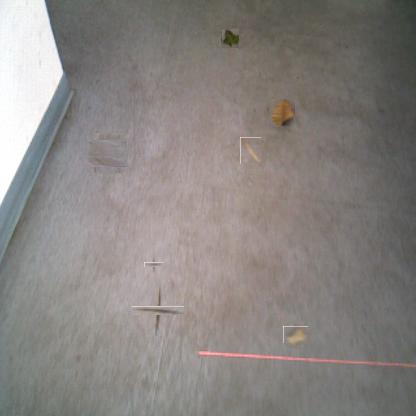dirty: (267, 100, 295, 126), (239, 138, 262, 163), (285, 324, 306, 345), (221, 28, 239, 48)
mark: (91, 136, 125, 171), (143, 295, 174, 326), (148, 258, 160, 270)
